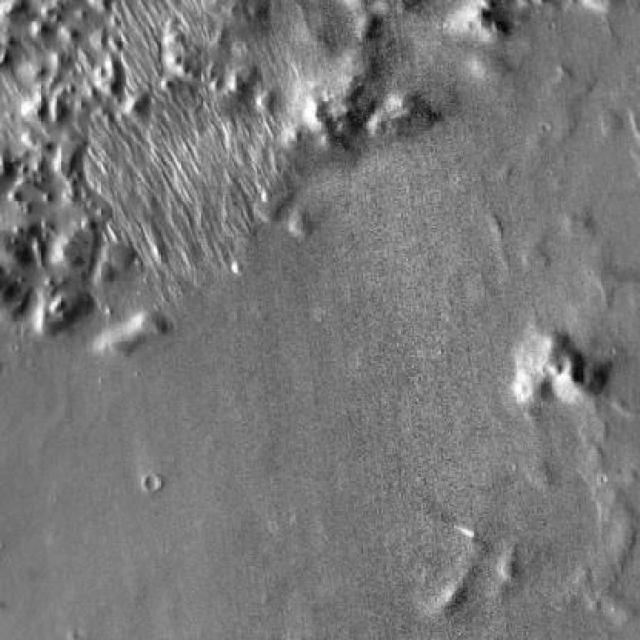crater: (448, 268, 489, 310)
